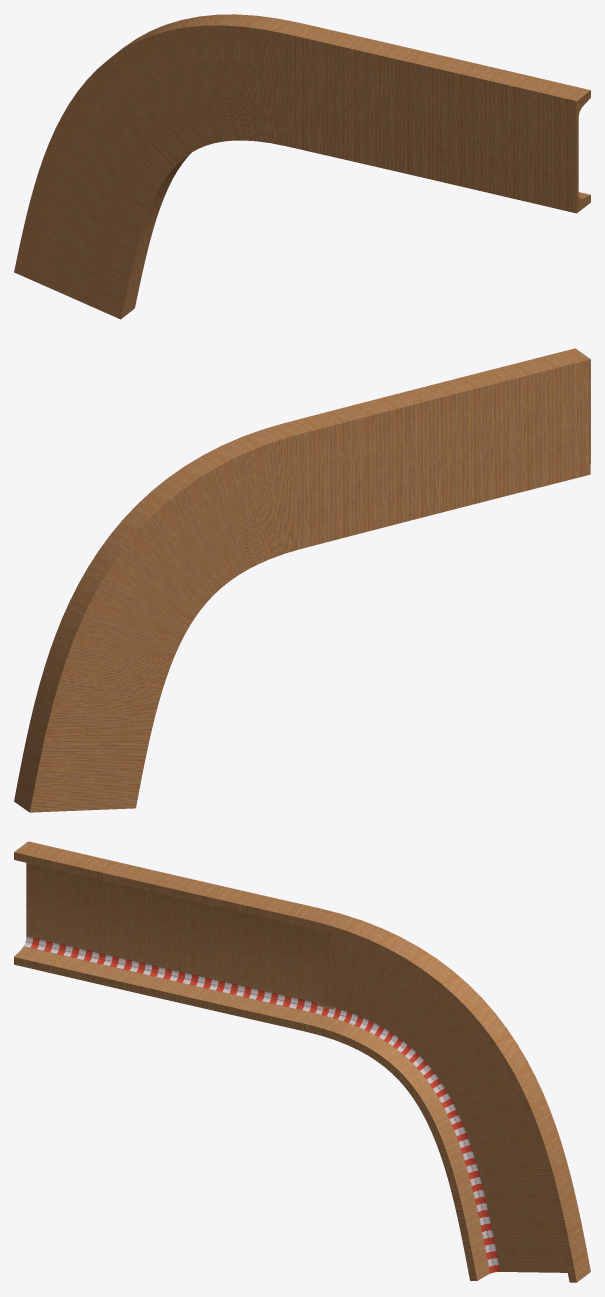
Rendered from SAMRTrack-17c.fbx.
The picture shows the model from 3 angles, top to bottom: view 1: azimuth 90°, elevation 25°; view 2: azimuth 150°, elevation 25°; view 3: azimuth 270°, elevation 25°; orthographic projection. The views are drawn at different scales.
Parts seen in each view (by area): view 1: SAMRTrack-17c; view 2: SAMRTrack-17c; view 3: SAMRTrack-17c.
Boxes of the visible parts, <box> form: SAMRTrack-17c: <box>14,14,590,319</box>; SAMRTrack-17c: <box>14,348,590,812</box>; SAMRTrack-17c: <box>14,841,590,1282</box>.
Bounding box in the file's own units: 77.41 × 83.11 × 134.
Materials: 2 (2 with a texture image).
